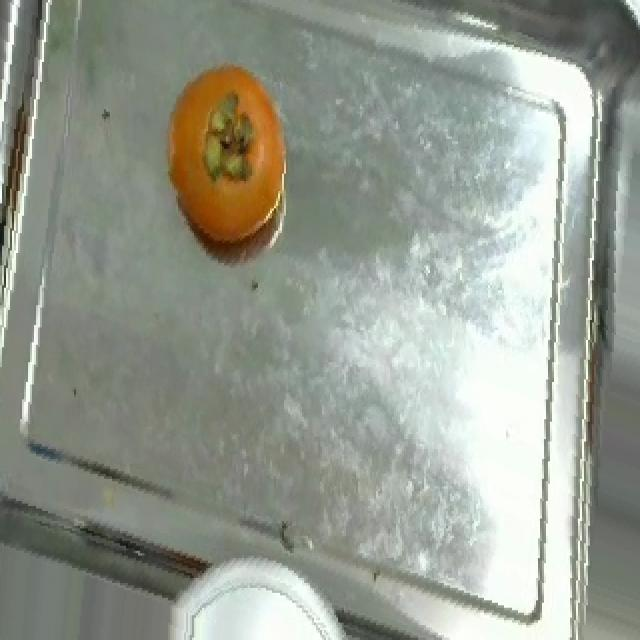Fruit: (144, 47, 310, 266)
